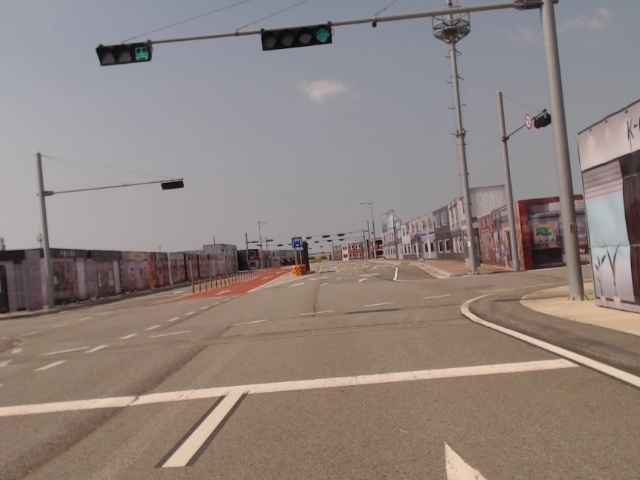straight_green_4: (259, 27, 332, 47)
